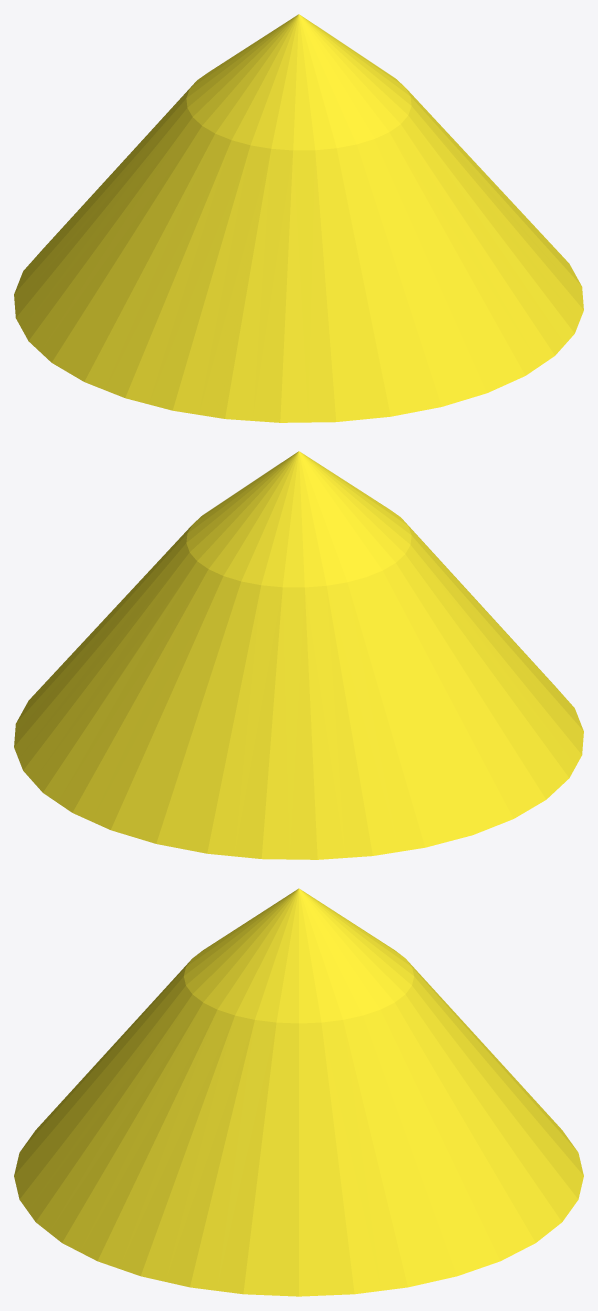
The model's file is flower_crush.gltf.
3 renders of one model, top to bottom at view 1: azimuth 30°, elevation 25°; view 2: azimuth 150°, elevation 25°; view 3: azimuth 270°, elevation 25°, orthographic.
Visible parts, largest first — view 1: powder; view 2: powder; view 3: powder.
Boxes of the visible parts, x1,y1,x2,y2 form: powder: [14, 14, 583, 422]; powder: [14, 451, 583, 859]; powder: [14, 888, 583, 1296].
Size of the model in its own units: 2.89 by 1.61 by 2.89.
Materials: 1 (1 with a texture image).
